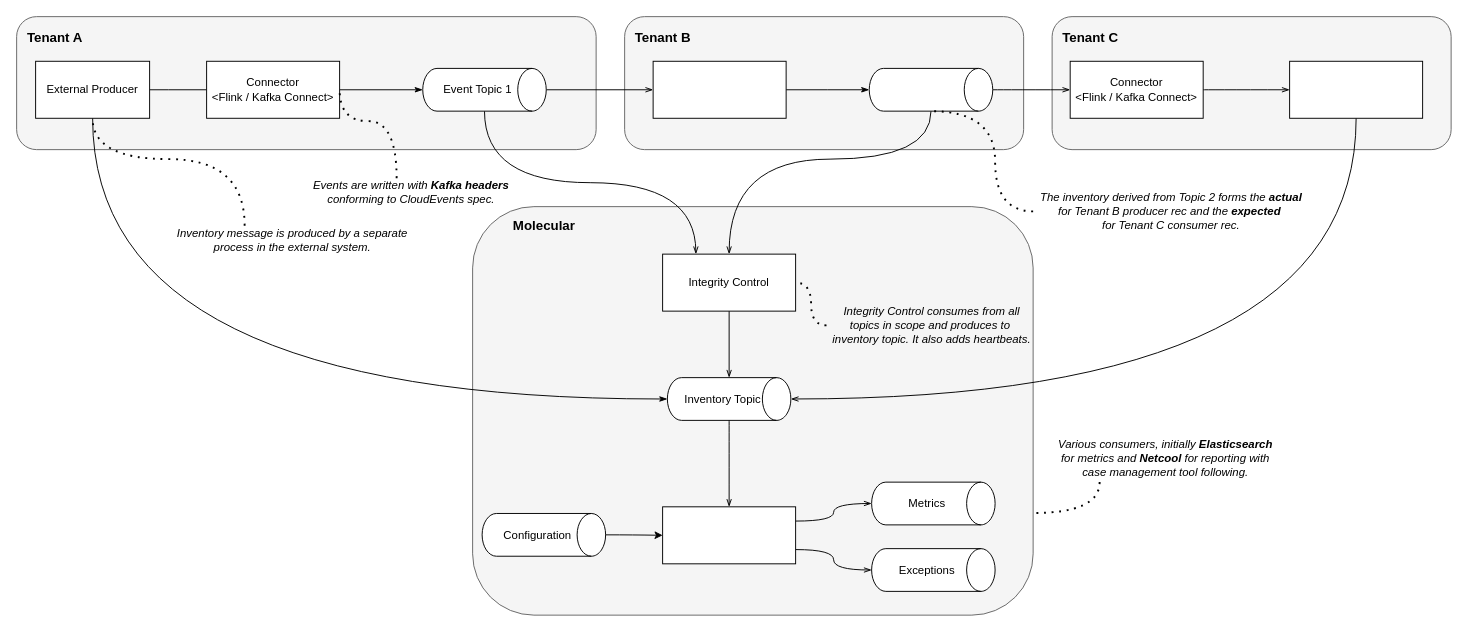
This 1468x632 diagram has some shape labels left out. Each missing label, with the centre of its shape:
"Application" goes at (x=719, y=89).
"Event Topic 2" goes at (x=930, y=89).
"External Consumer" goes at (x=1356, y=89).
"Reconciliation" goes at (x=729, y=535).
